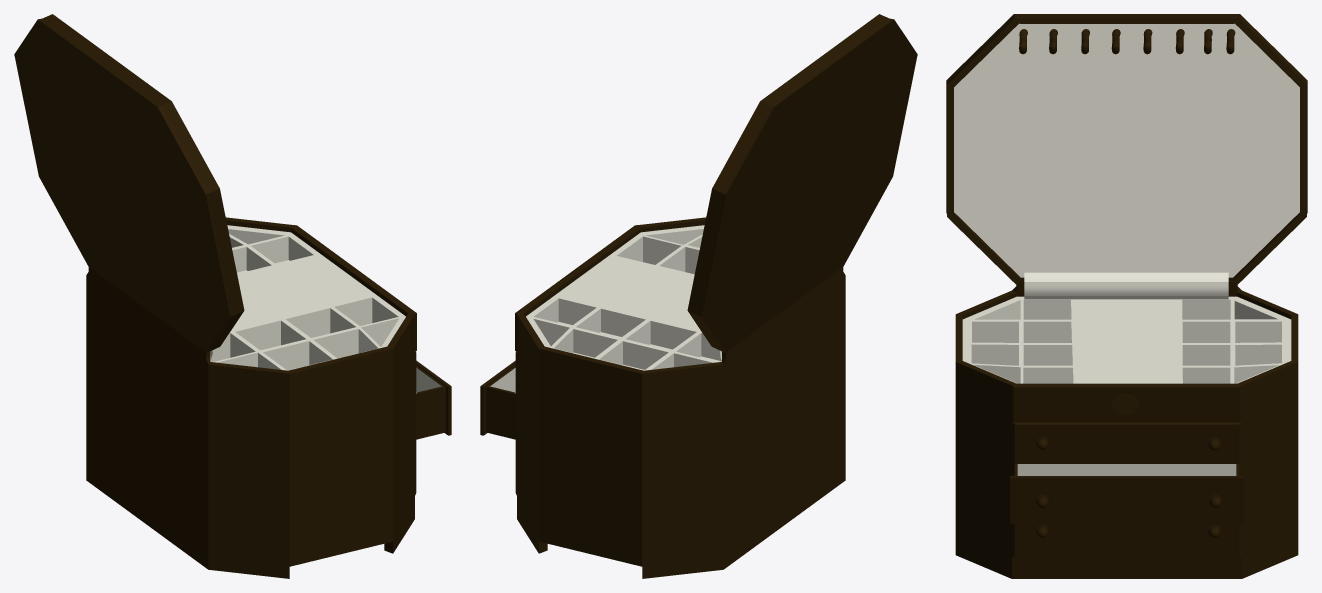
The model's file is Jewelry_Box_Updated.fbx.
The picture shows the model from 3 angles, left to right: view 1: azimuth 30°, elevation 25°; view 2: azimuth 150°, elevation 25°; view 3: azimuth 270°, elevation 25°; orthographic projection. The views are drawn at different scales.
Visible parts, largest first — view 1: JewelryBox:JewelryBox; view 2: JewelryBox:JewelryBox; view 3: JewelryBox:JewelryBox.
Part boxes in pixels (box(x1,y1,x2,y2)): JewelryBox:JewelryBox: box(14, 14, 451, 578); JewelryBox:JewelryBox: box(480, 14, 917, 578); JewelryBox:JewelryBox: box(946, 14, 1307, 578).
Size of the model in its own units: 20.8 by 31.36 by 22.87.
